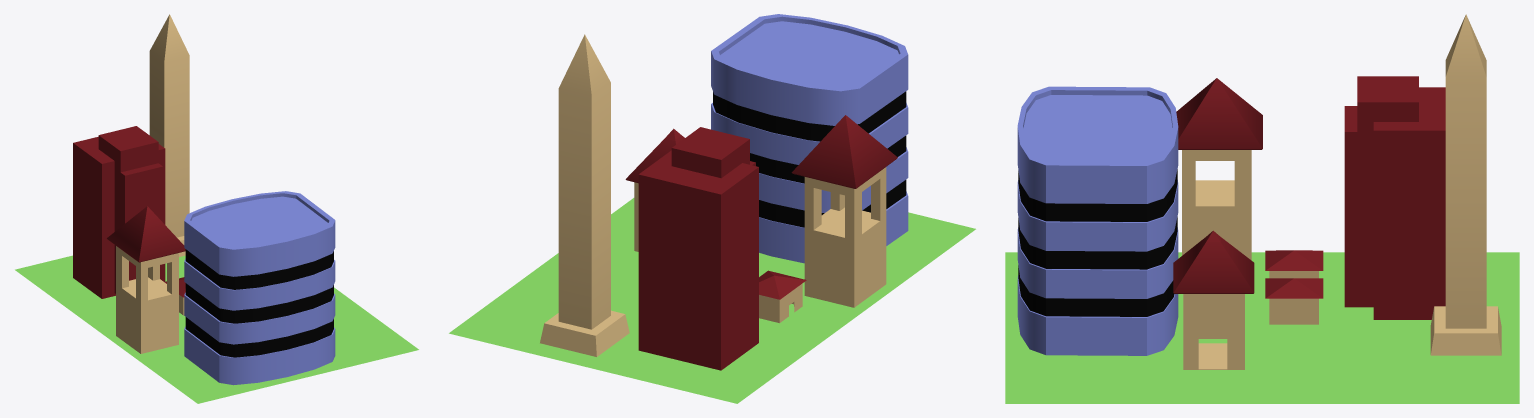
The model's file is cidade 4.fbx.
3 renders of one model, left to right at view 1: azimuth 30°, elevation 25°; view 2: azimuth 150°, elevation 25°; view 3: azimuth 270°, elevation 25°, orthographic. The views are drawn at different scales.
Visible parts, largest first — view 1: Plane.006; view 2: Plane.006; view 3: Plane.006.
Part boxes in pixels (box(x1,y1,x2,y2)): Plane.006: box(15, 14, 418, 403); Plane.006: box(449, 14, 975, 403); Plane.006: box(1005, 14, 1519, 403).
Bounding box in the file's own units: 1166 × 1195 × 1671.
